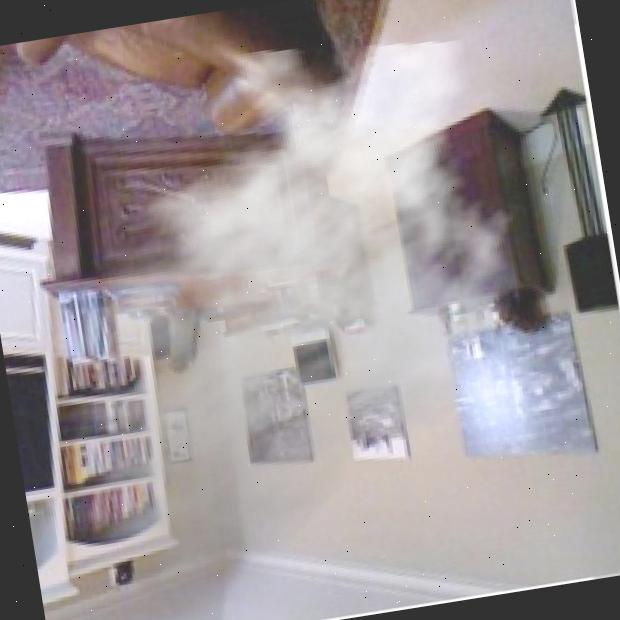smoke: (0, 10, 577, 604)
